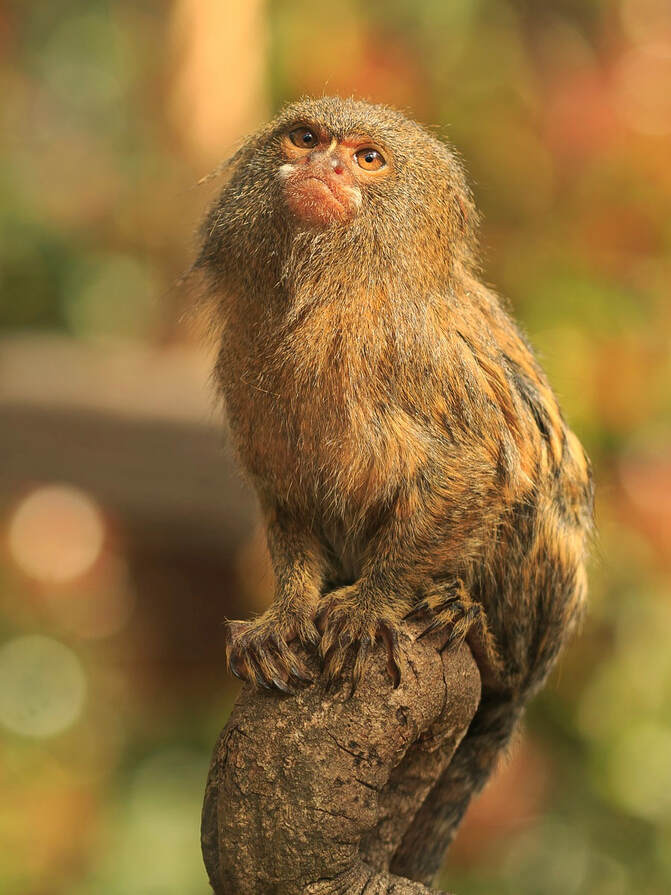PygmyMarmoset: (173, 95, 639, 716)
